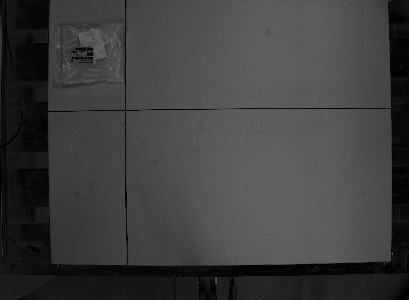t3: (51, 18, 128, 89)
